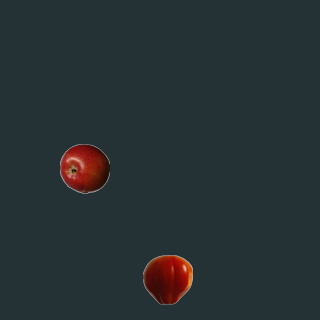Apple Braeburn: (59, 143, 109, 193)
Tomato 1: (142, 254, 192, 304)
